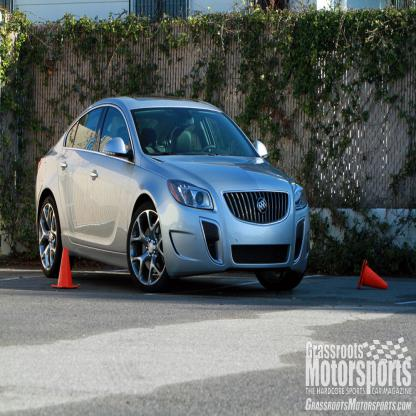Vehicle: (33, 96, 311, 294)
